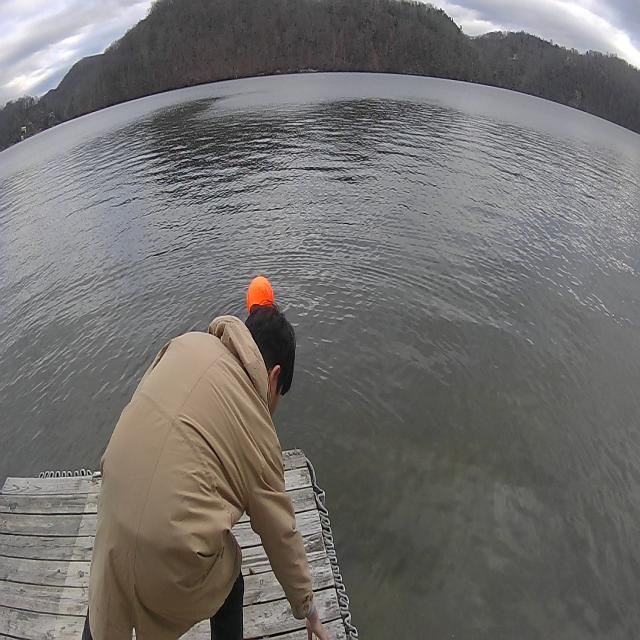Buoy: (245, 271, 276, 319)
